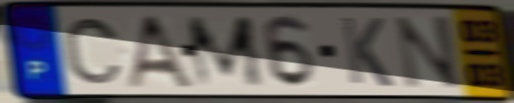6: (261, 13, 319, 90)
A: (122, 12, 197, 90)
C: (60, 16, 126, 87)
K: (338, 14, 396, 90)
M: (183, 13, 268, 90)
N: (392, 13, 465, 91)
